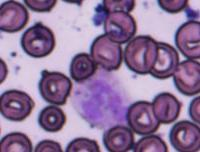N: (71, 71, 132, 128)
